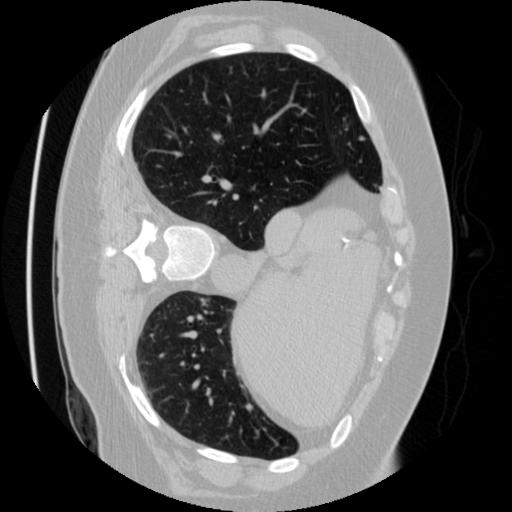nodule: (357, 133, 367, 143)
